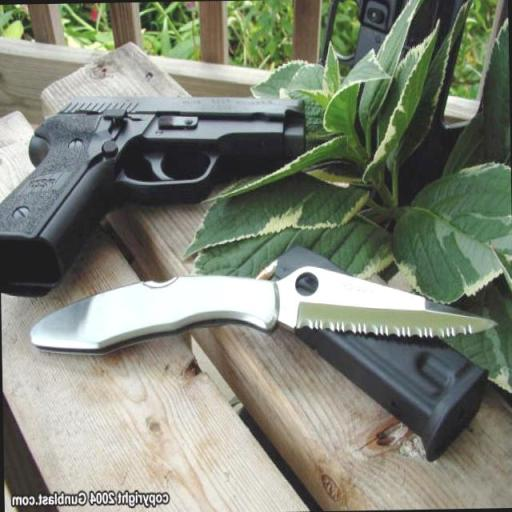knife: (279, 258, 505, 348)
